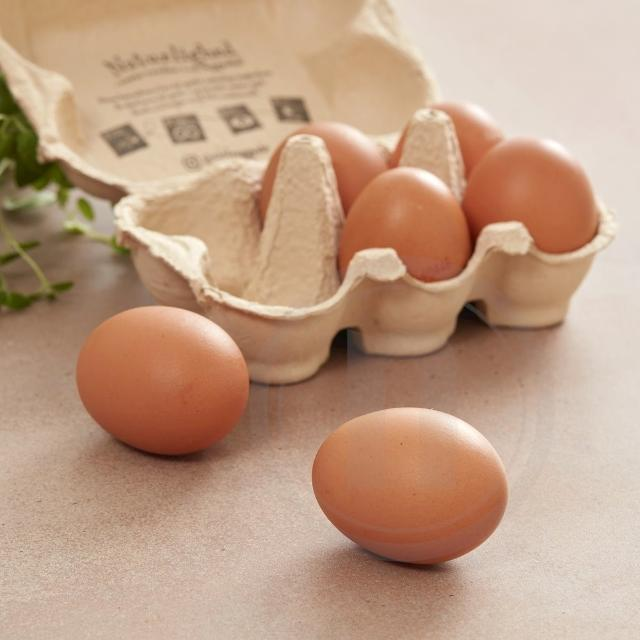aeg: (254, 86, 616, 322), (304, 385, 514, 585), (78, 302, 255, 474)
